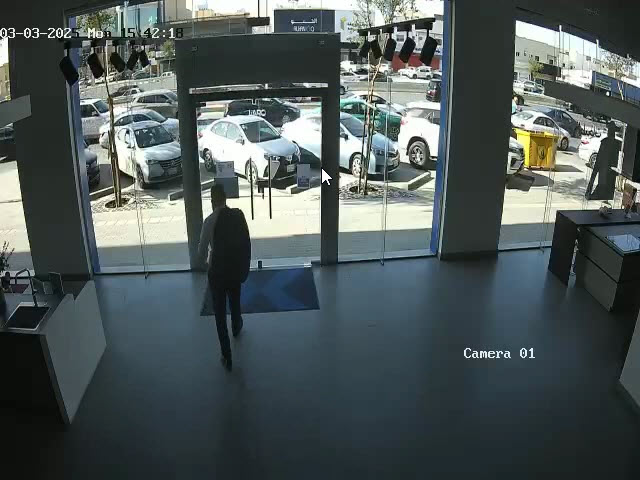employee: (197, 184, 252, 370)
